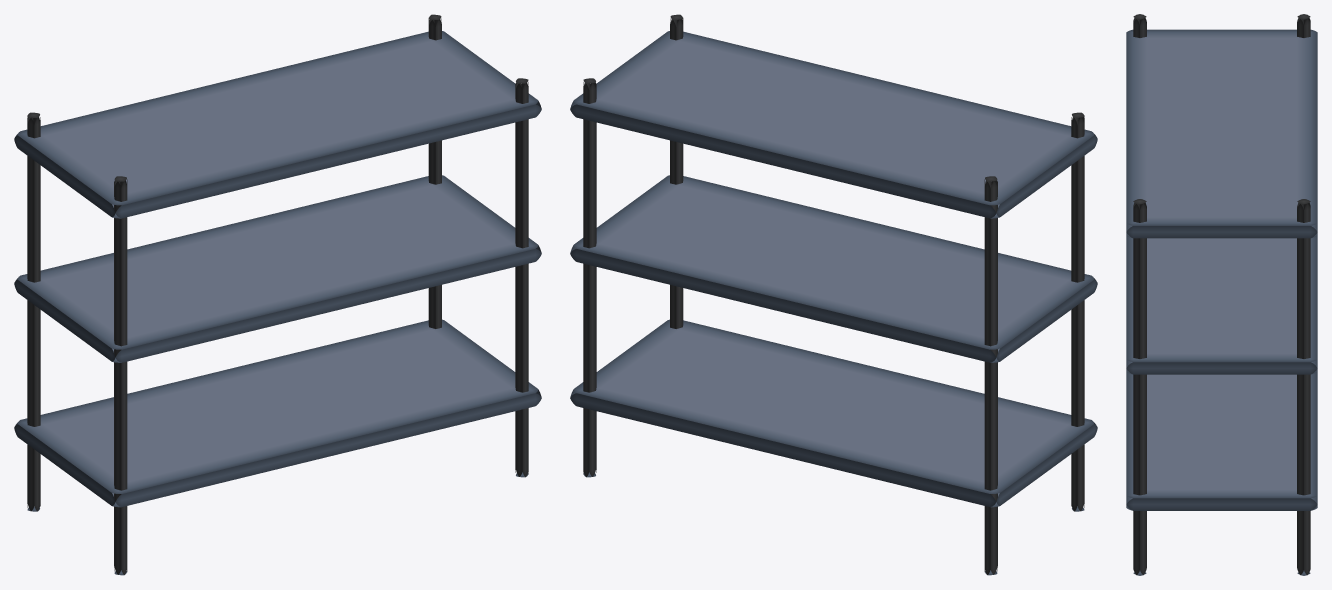
File: Shelf.obj
3 views of the same model, side by side, from view 1: azimuth 30°, elevation 25°; view 2: azimuth 150°, elevation 25°; view 3: azimuth 270°, elevation 25° (orthographic). The views are drawn at different scales.
Parts seen in each view (by area): view 1: Shelf; view 2: Shelf; view 3: Shelf.
Boxes of the visible parts, box(x1,y1,x2,y2) form: Shelf: box(14, 14, 541, 575); Shelf: box(570, 14, 1097, 575); Shelf: box(1126, 14, 1317, 575).
Bounding box in the file's own units: 2.12 × 1.88 × 0.875.
1 material, 1 textured.
